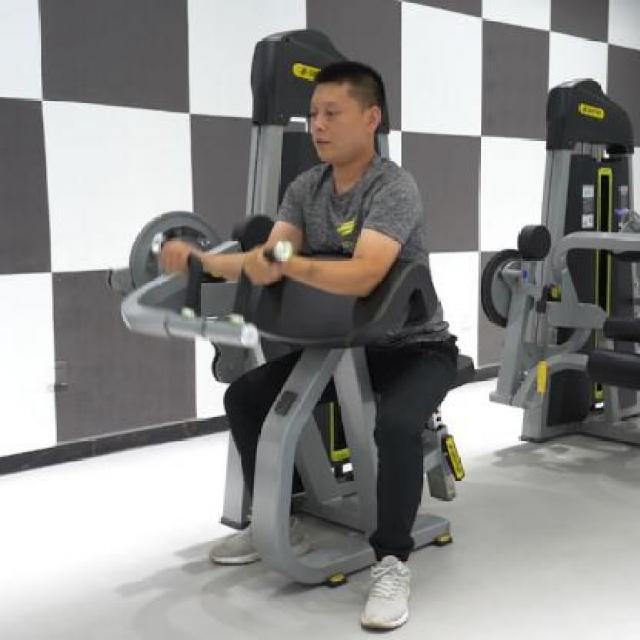arm curl machine: (108, 211, 475, 586)
